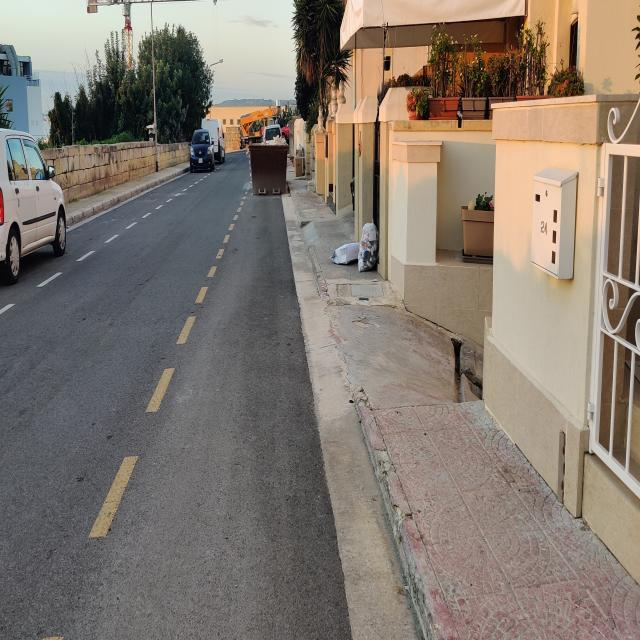Others Waste: (329, 240, 359, 268), (289, 142, 304, 180)
Recyclable Material -Grey Bags-: (356, 219, 381, 274)
